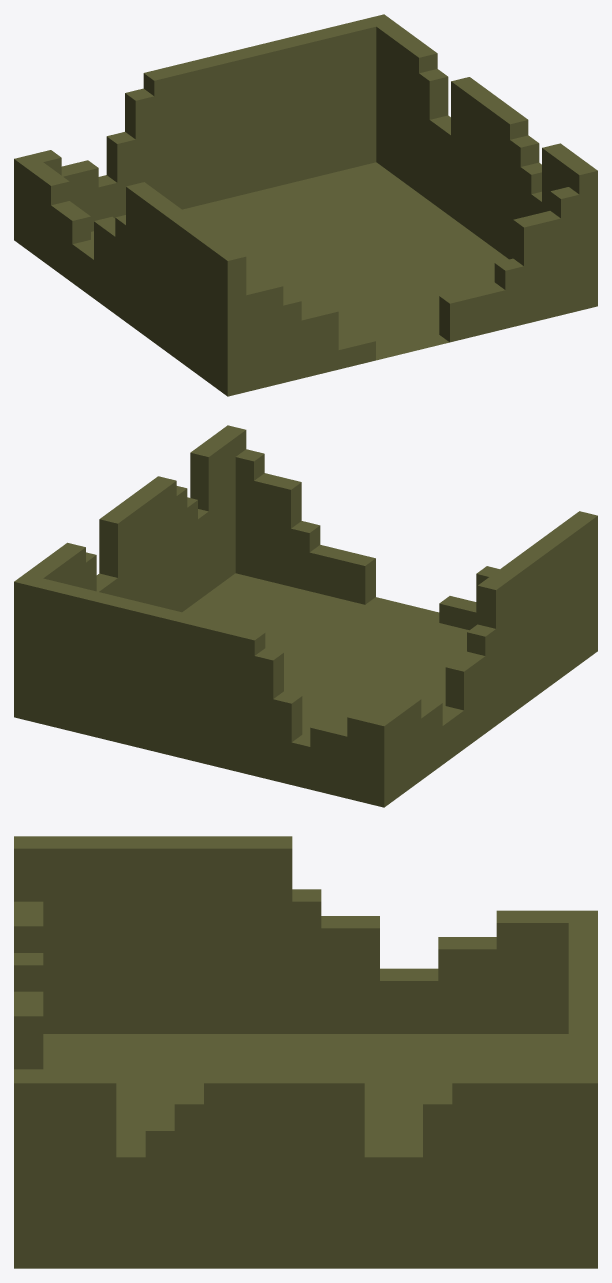
File: ruina 3.fbx
3 views of the same model, one above another, from view 1: azimuth 30°, elevation 25°; view 2: azimuth 150°, elevation 25°; view 3: azimuth 270°, elevation 25° (orthographic). The views are drawn at different scales.
Parts seen in each view (by area): view 1: ruina 5; view 2: ruina 5; view 3: ruina 5.
Boxes of the visible parts, box(x1,y1,x2,y2) form: ruina 5: box(14, 14, 597, 396); ruina 5: box(14, 425, 597, 807); ruina 5: box(14, 836, 597, 1268).
Bounding box in the file's own units: 1000 × 350 × 1000.
